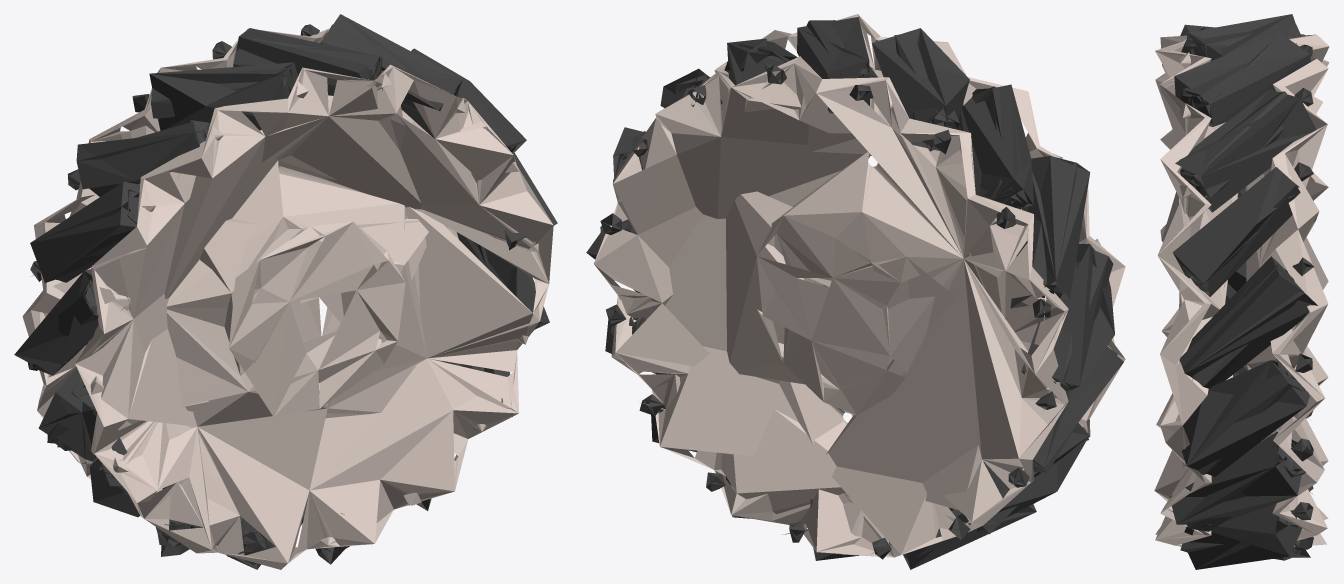
Rendered from wheel_right01.dae.
3 renders of one model, left to right at view 1: azimuth 30°, elevation 25°; view 2: azimuth 150°, elevation 25°; view 3: azimuth 270°, elevation 25°, orthographic. The views are drawn at different scales.
Parts seen in each view (by area): view 1: wheel_rf; view 2: wheel_rf; view 3: wheel_rf.
Part boxes in pixels (x1,y1,x2,y2): wheel_rf: [14, 14, 557, 569]; wheel_rf: [586, 14, 1125, 569]; wheel_rf: [1154, 14, 1329, 569].
Size of the model in its own units: 0.1529 by 0.0485 by 0.1525.
